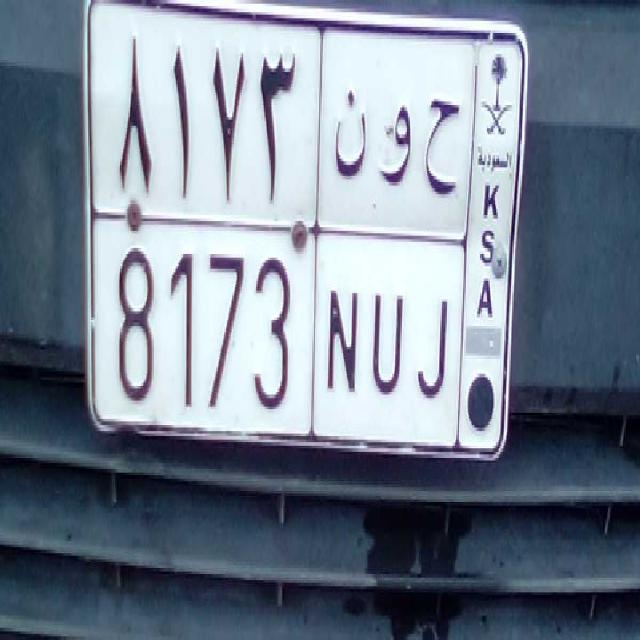license_plate: (75, 214, 464, 464)
